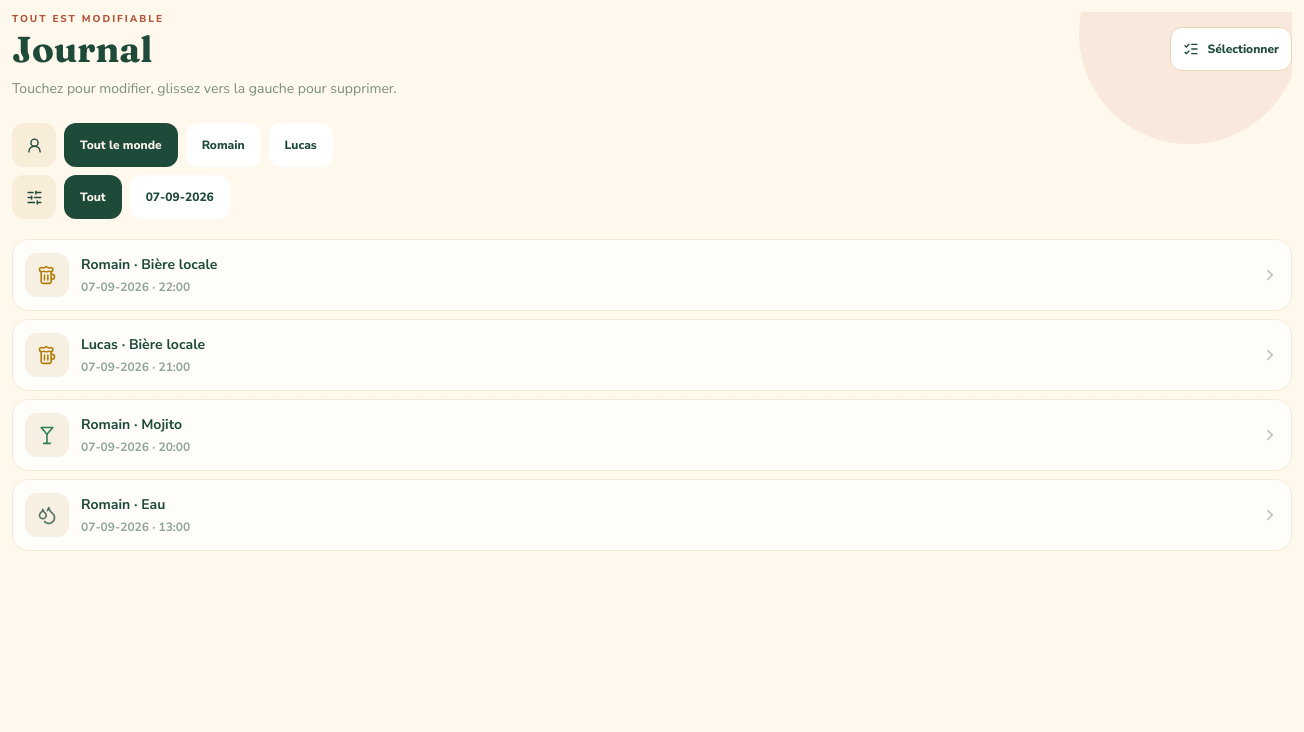
it: sélection multiple du Journal › oublie les lignes masquées par un changement de filtre
Click the button "Sélectionner".
click(1231, 49)  # box [1170,27,1292,71]
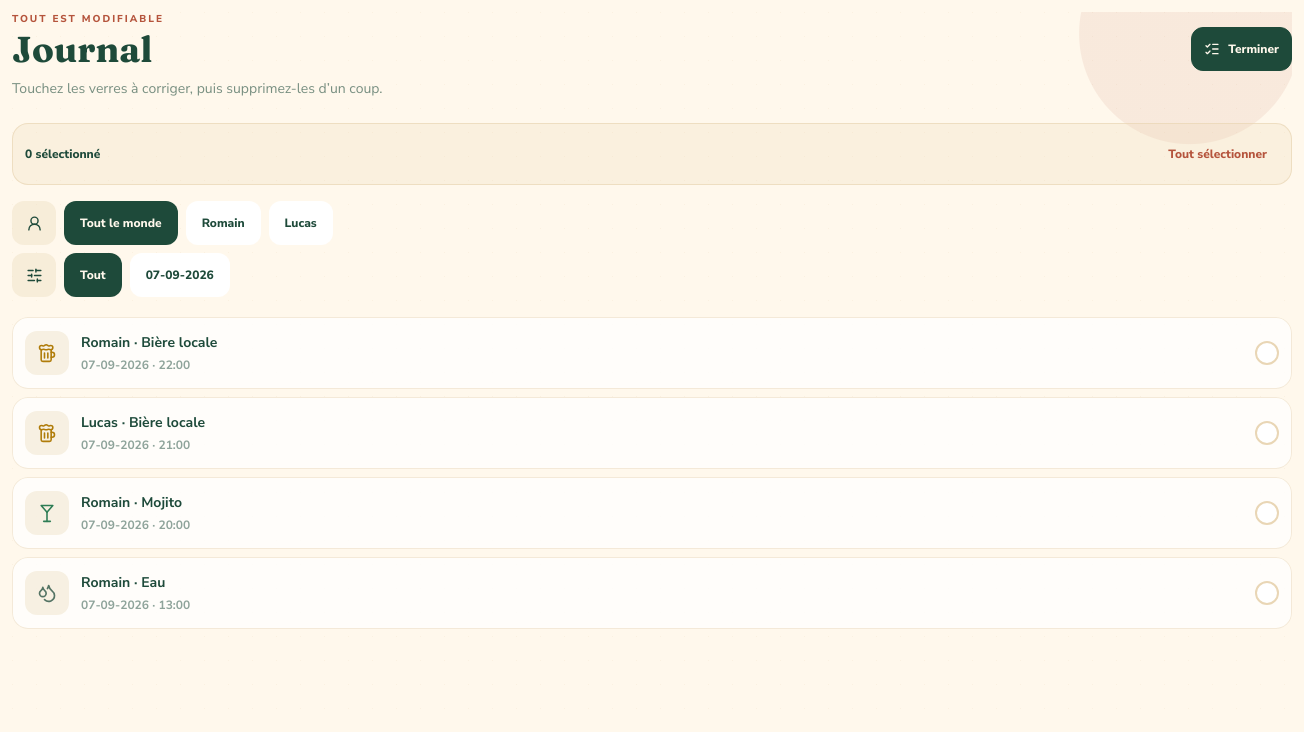
Click the button "Tout sélectionner".
click(1218, 154)  # box [1156,132,1279,176]
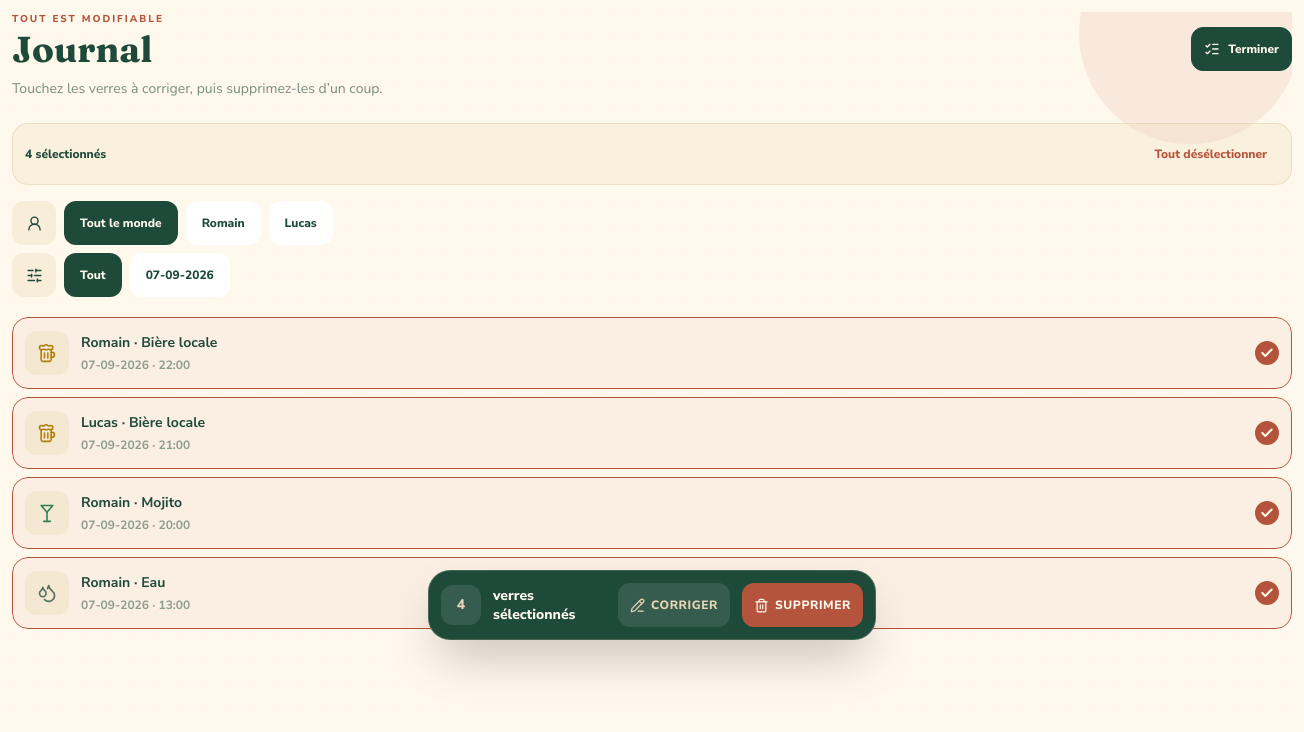
Now the text "4 sélectionnés" is shown, box [25,146,106,162]
Click the button "Terminer".
click(1242, 49)  # box [1191,27,1292,71]
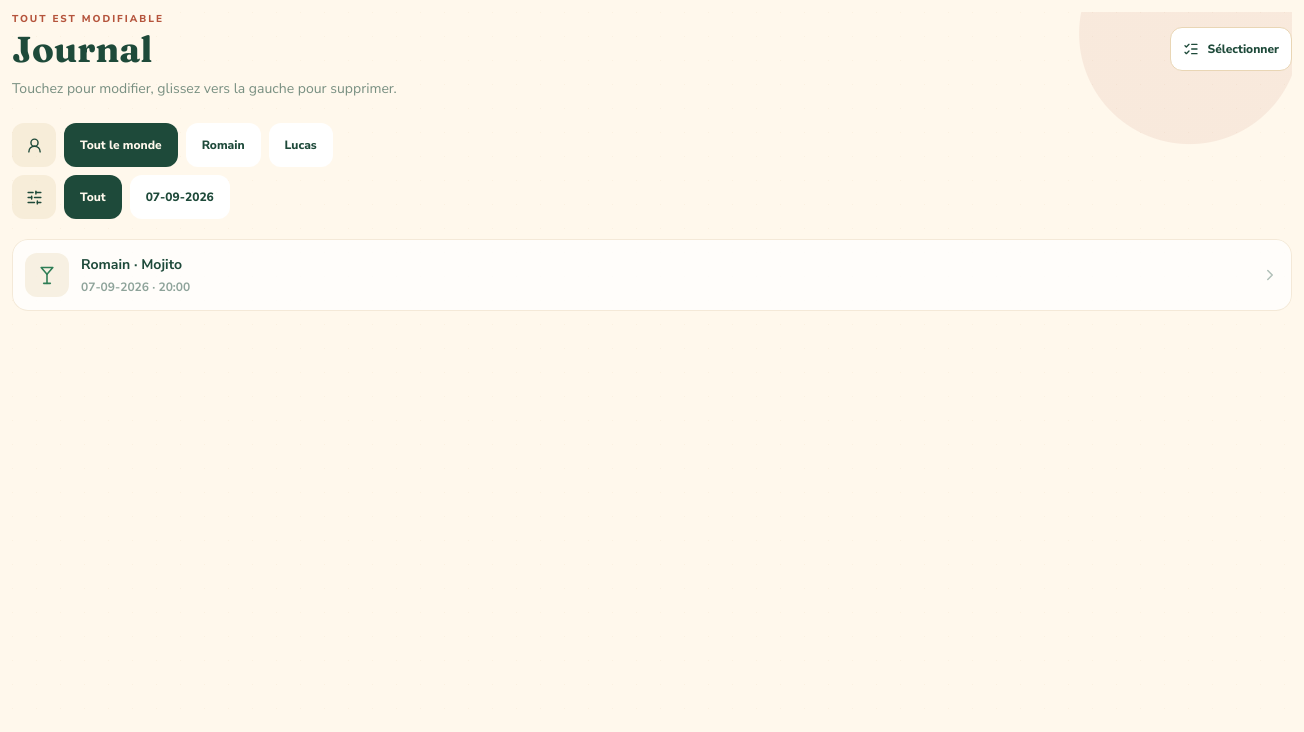
Click the button "Sélectionner".
click(1231, 49)  # box [1170,27,1292,71]
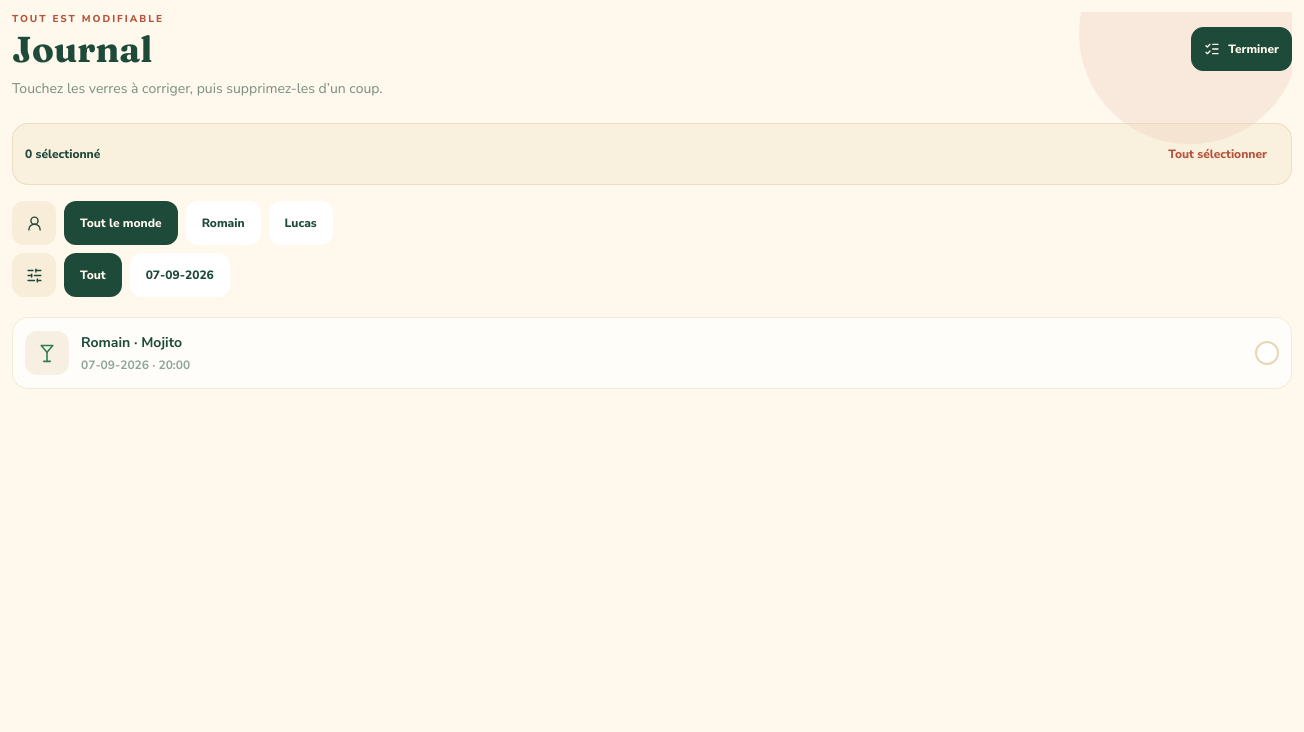
Now the text "0 sélectionné" is shown, box [25,146,100,162]
